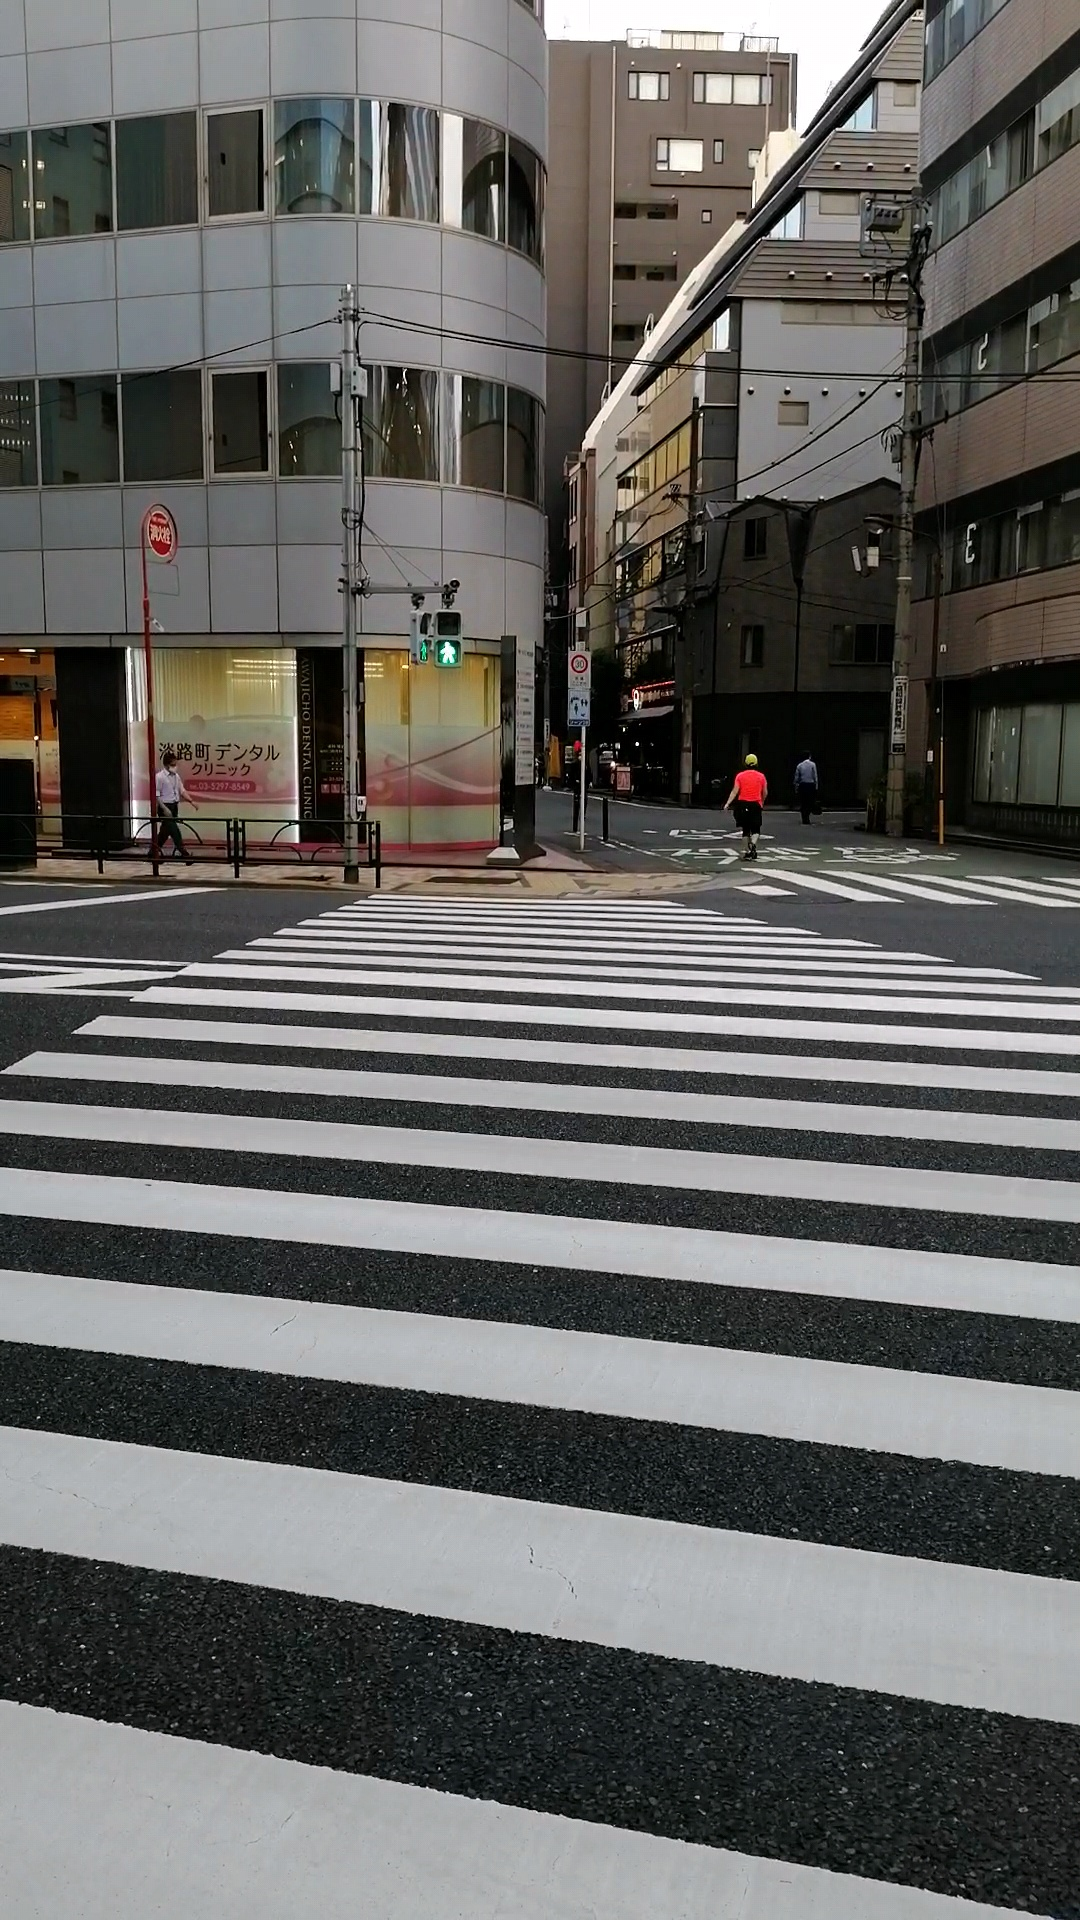green: (433, 609, 463, 667)
